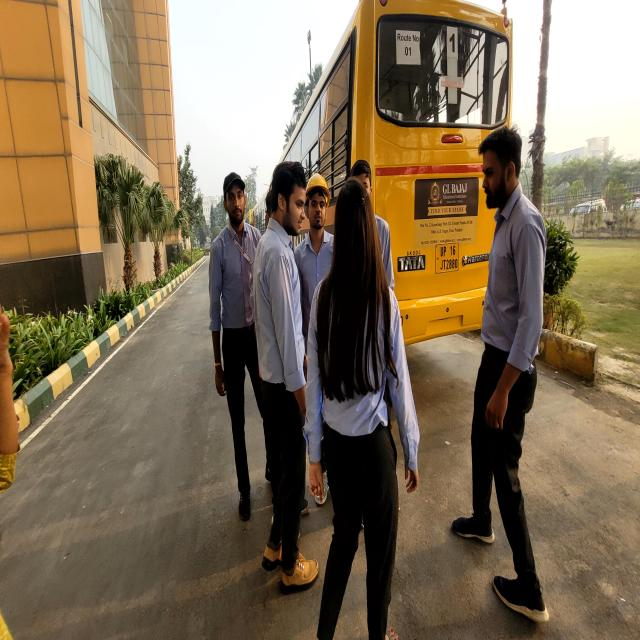unsafe: (302, 177, 422, 640), (466, 132, 552, 630), (257, 155, 320, 594), (209, 163, 268, 525)
